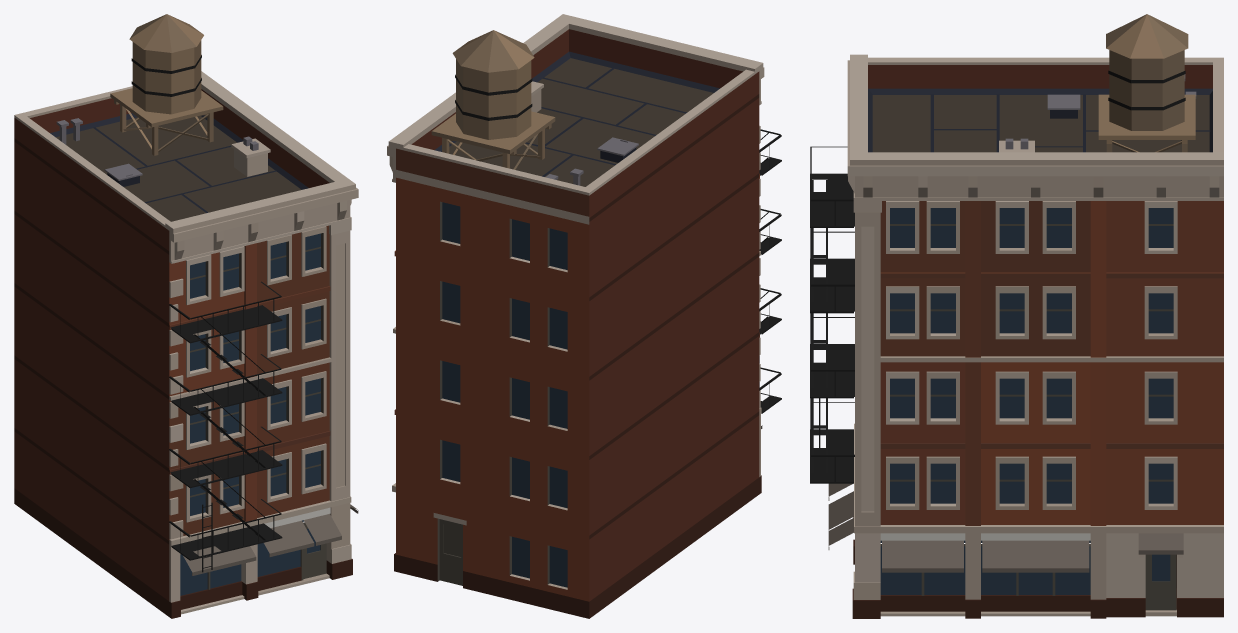
File: corner-tenement.glb
The picture shows the model from 3 angles, left to right: view 1: azimuth 30°, elevation 25°; view 2: azimuth 150°, elevation 25°; view 3: azimuth 270°, elevation 25°; orthographic projection. The views are drawn at different scales.
Visible parts, largest first — view 1: tenement-body; view 2: tenement-body; view 3: tenement-body.
Boxes of the visible parts, <box> form: tenement-body: <box>14,14,358,618</box>; tenement-body: <box>387,14,781,618</box>; tenement-body: <box>810,14,1223,618</box>.
Bounding box in the file's own units: 8.61 × 20.06 × 13.2.
